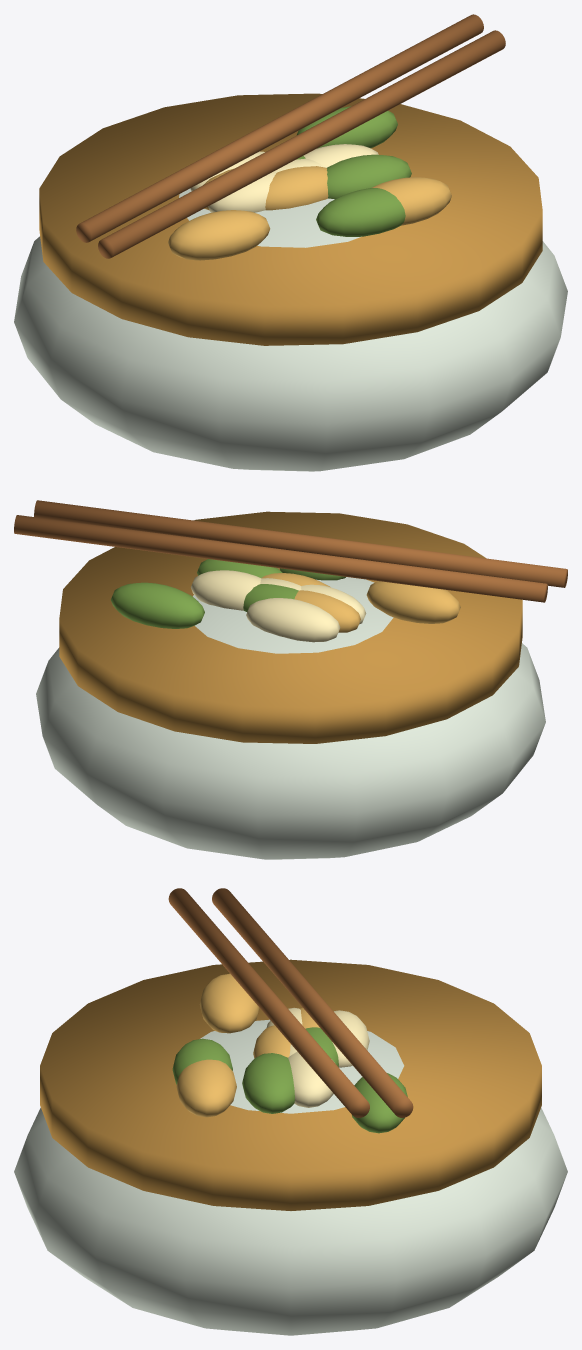
The model's file is noodles.glb.
3 renders of one model, top to bottom at view 1: azimuth 30°, elevation 25°; view 2: azimuth 150°, elevation 25°; view 3: azimuth 270°, elevation 25°, orthographic. The views are drawn at different scales.
Visible parts, largest first — view 1: Broth, Ceramic bowl, Chopstick, Chopstick.001, Topping.007, Topping.009, Topping.006, Topping.004, Topping.001, Topping.003, Topping.002, Topping.011; view 2: Ceramic bowl, Broth, Chopstick, Chopstick.001, Topping.003, Topping.005, Topping.007, Topping.011, Topping.010, Topping.006, Topping, Topping.002 (+1 smaller); view 3: Broth, Ceramic bowl, Chopstick, Chopstick.001, Topping.001, Topping.006, Topping.007, Topping.011, Topping.003, Topping.009, Topping.004, Topping.005.
Part boxes in pixels (bbox=[...]): Broth: bbox=[39, 93, 542, 345]; Ceramic bowl: bbox=[14, 188, 567, 471]; Chopstick: bbox=[76, 14, 483, 242]; Chopstick.001: bbox=[98, 30, 505, 258]; Topping.007: bbox=[168, 210, 270, 260]; Topping.009: bbox=[316, 188, 405, 236]; Topping.006: bbox=[327, 154, 411, 199]; Topping.004: bbox=[265, 166, 328, 210]; Topping.001: bbox=[372, 177, 451, 225]; Topping.003: bbox=[297, 106, 397, 148]; Topping.002: bbox=[208, 171, 276, 212]; Topping.011: bbox=[303, 144, 378, 167]; Ceramic bowl: bbox=[36, 577, 545, 859]; Broth: bbox=[59, 511, 522, 743]; Chopstick: bbox=[14, 515, 547, 602]; Chopstick.001: bbox=[34, 500, 567, 587]; Topping.003: bbox=[111, 582, 204, 628]; Topping.005: bbox=[246, 598, 340, 642]; Topping.007: bbox=[366, 581, 460, 623]; Topping.011: bbox=[191, 570, 261, 610]; Topping.010: bbox=[294, 590, 360, 632]; Topping.006: bbox=[197, 559, 282, 577]; Topping: bbox=[243, 584, 298, 611]; Topping.002: bbox=[301, 584, 366, 624]; Broth: bbox=[40, 959, 541, 1210]; Ceramic bowl: bbox=[14, 1019, 567, 1335]; Chopstick: bbox=[212, 888, 413, 1117]; Chopstick.001: bbox=[168, 888, 369, 1117]; Topping.001: bbox=[176, 1059, 236, 1117]; Topping.006: bbox=[242, 1053, 294, 1113]; Topping.007: bbox=[199, 973, 259, 1033]; Topping.011: bbox=[288, 1052, 334, 1107]; Topping.003: bbox=[352, 1073, 407, 1133]; Topping.009: bbox=[172, 1038, 232, 1084]; Topping.004: bbox=[253, 1025, 290, 1058]; Topping.005: bbox=[332, 1010, 369, 1067].
Size of the model in its own units: 0.6475 by 0.392 by 0.64.
